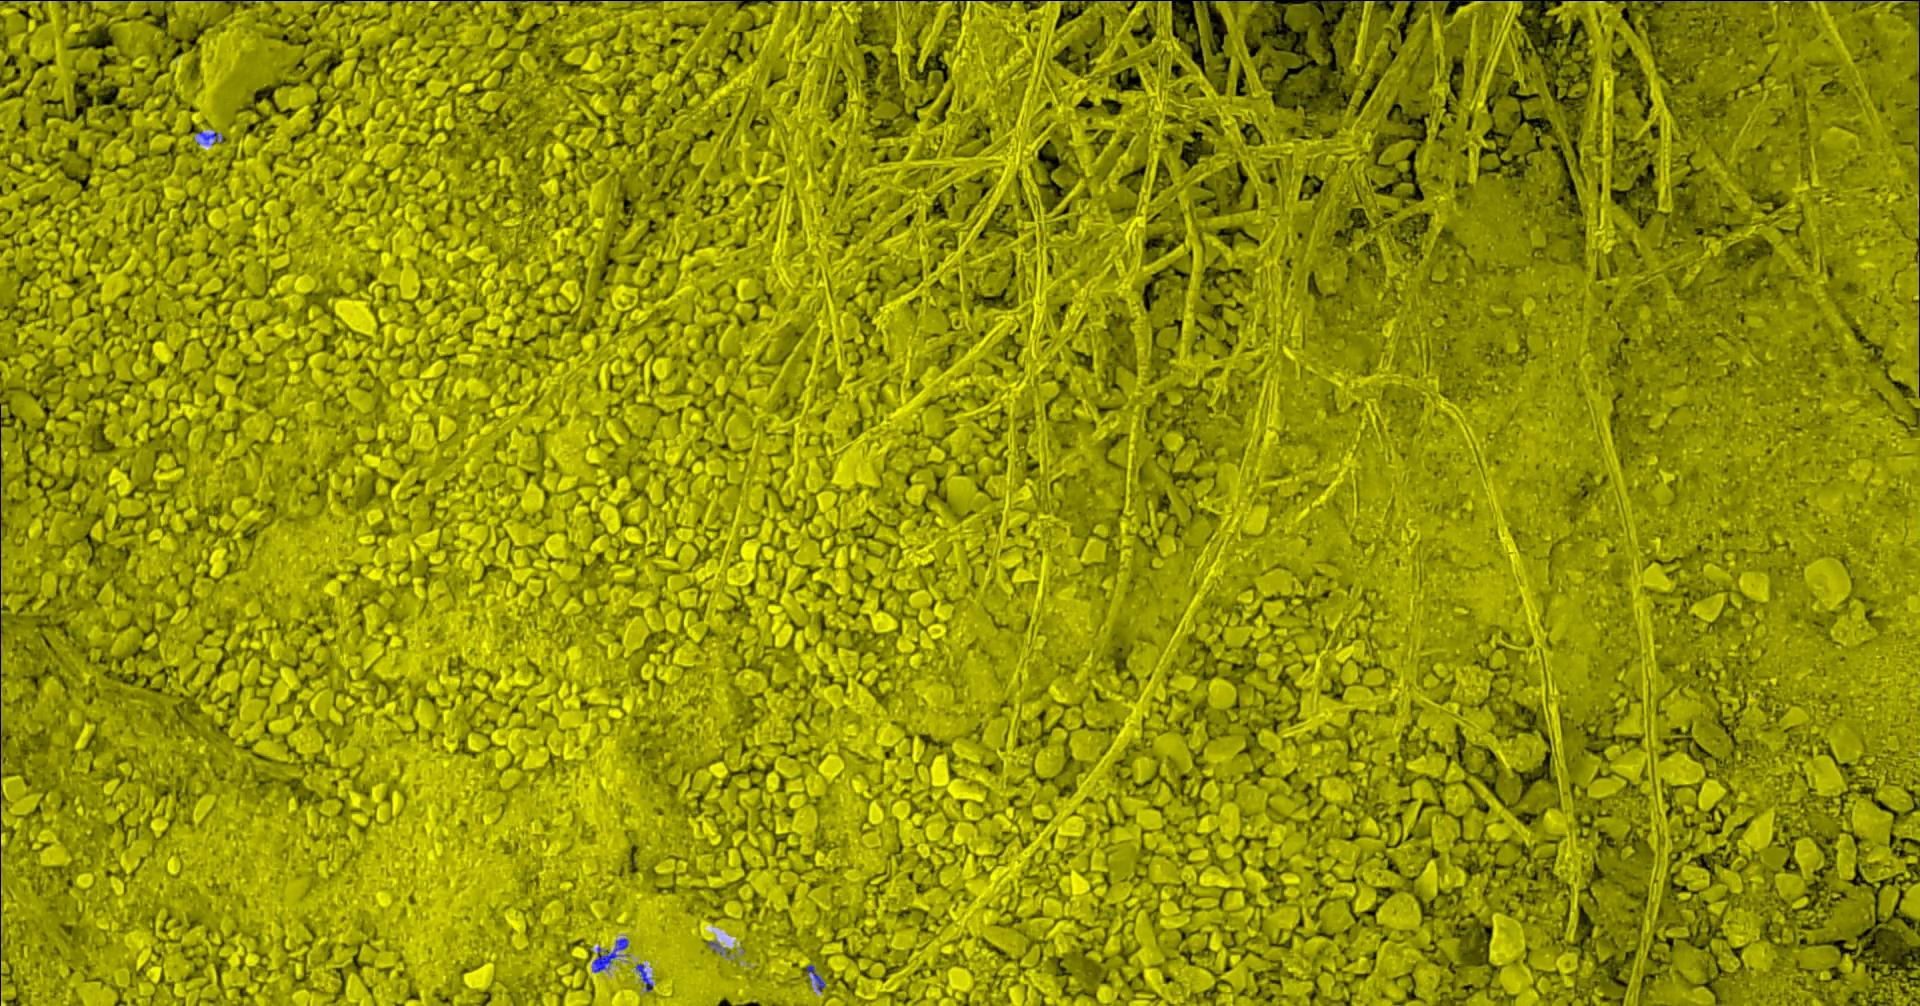ant: (594, 937, 630, 972), (808, 964, 825, 991), (637, 963, 654, 991), (197, 131, 223, 144)
